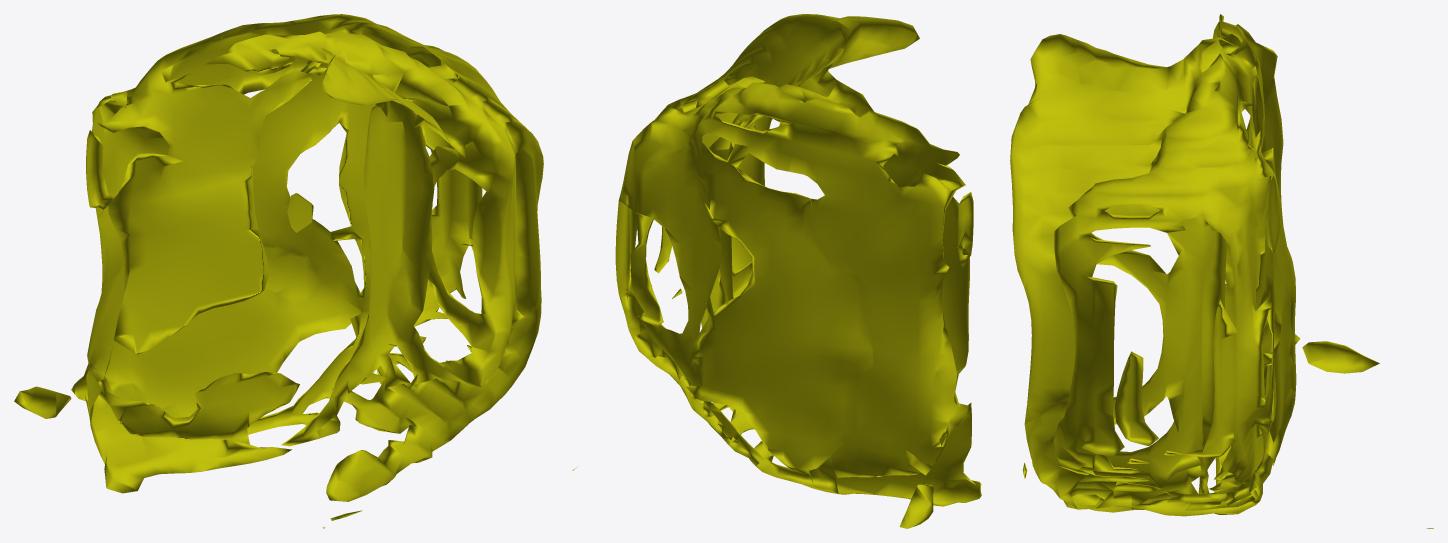
The picture shows the model from 3 angles, left to right: view 1: azimuth 30°, elevation 25°; view 2: azimuth 150°, elevation 25°; view 3: azimuth 270°, elevation 25°; orthographic projection. The views are drawn at different scales.
Parts seen in each view (by area): view 1: world; view 2: world; view 3: world.
Boxes of the visible parts, x1=… form: world: x1=14, y1=14, x2=543, y2=528; world: x1=572, y1=14, x2=981, y2=528; world: x1=1010, y1=14, x2=1433, y2=528.
Size of the model in its own units: 26.24 by 28.56 by 23.84.
